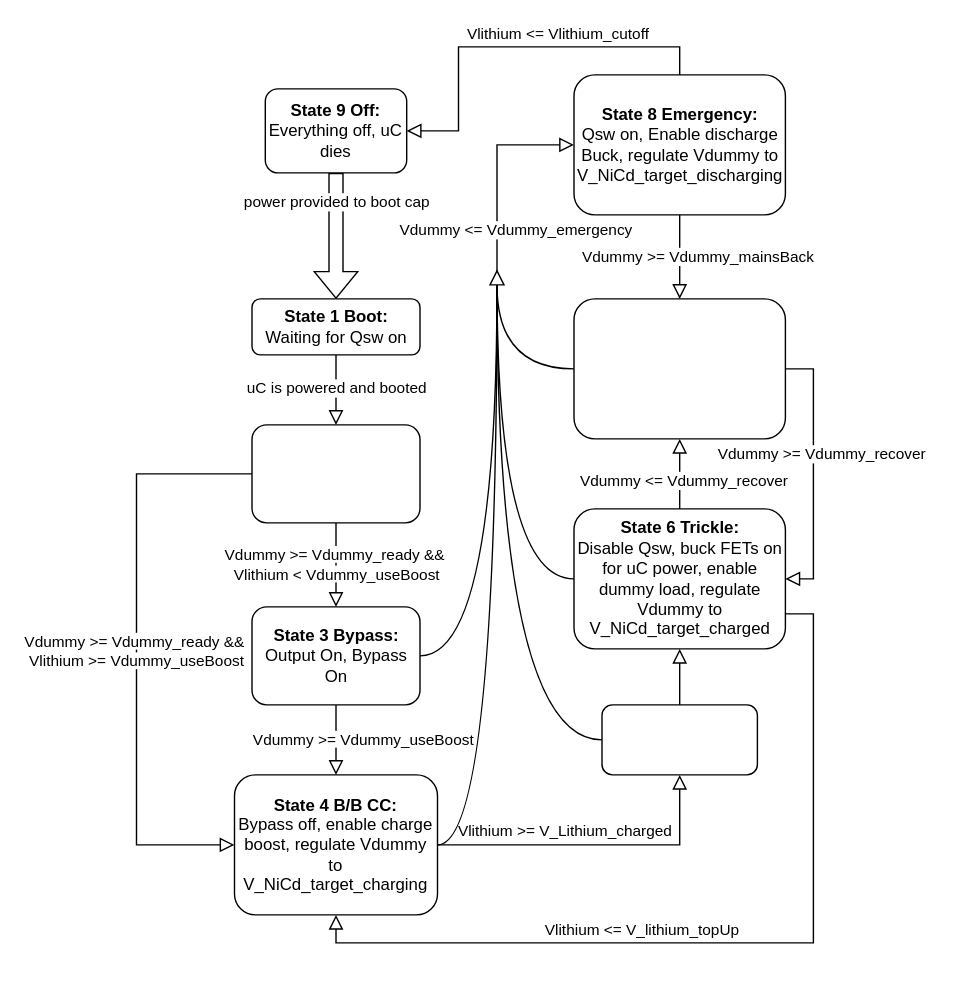
Image size: 953x981. Some labels were removed from this diagram. The box of each missing label's shape, as (x1, y1, x2, y2) in pixels:
State 2 Prepare: Buck FETs on, wait for Vdummy to rise: (251, 424, 420, 523)
State 5 B/B CV: Unused, skip to state 6: (601, 704, 757, 775)
State 7 Recover: Qsw on, disable dummy load, wait for dip or rise: (573, 298, 785, 439)
